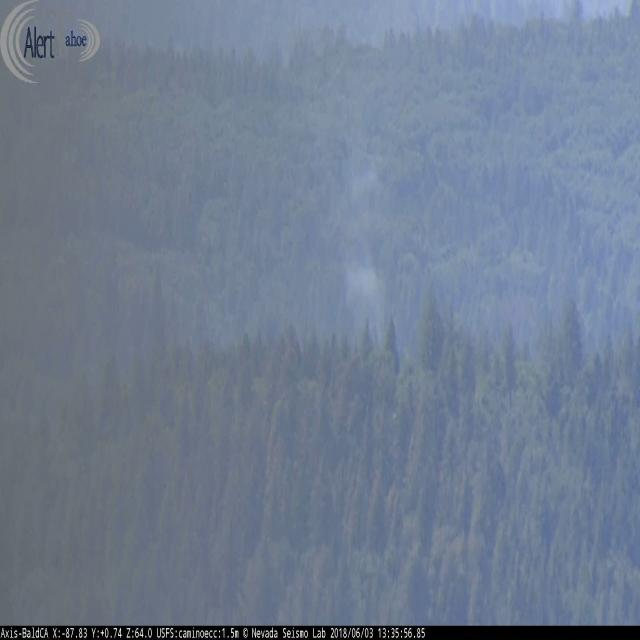smoke: (342, 247, 385, 347)
